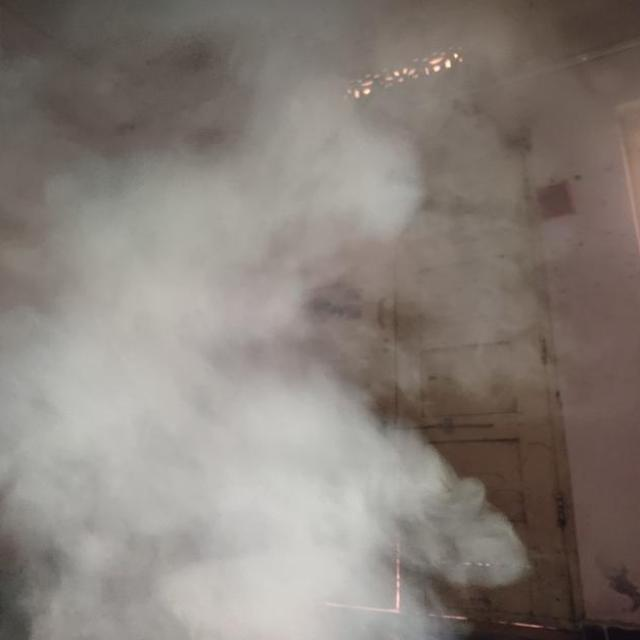fire: (10, 15, 540, 640)
